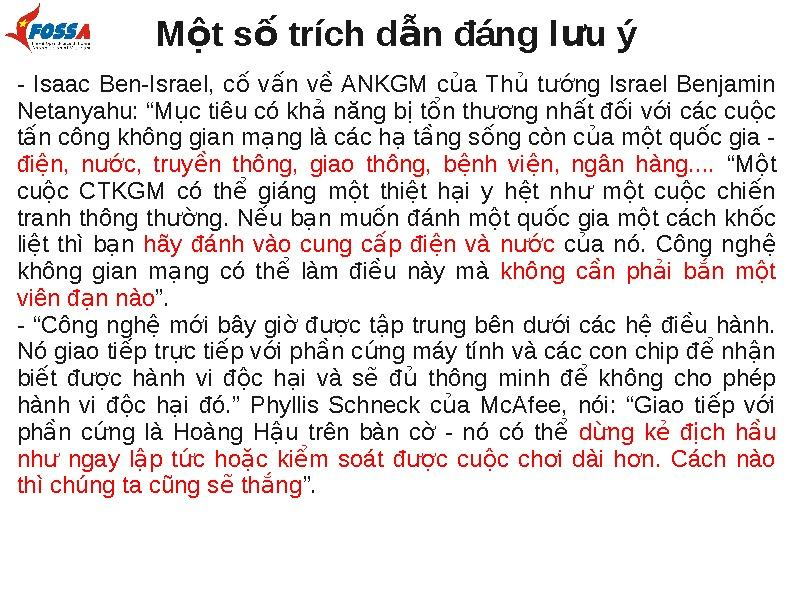paragraph: (12, 67, 784, 516)
title: (157, 6, 657, 58)
